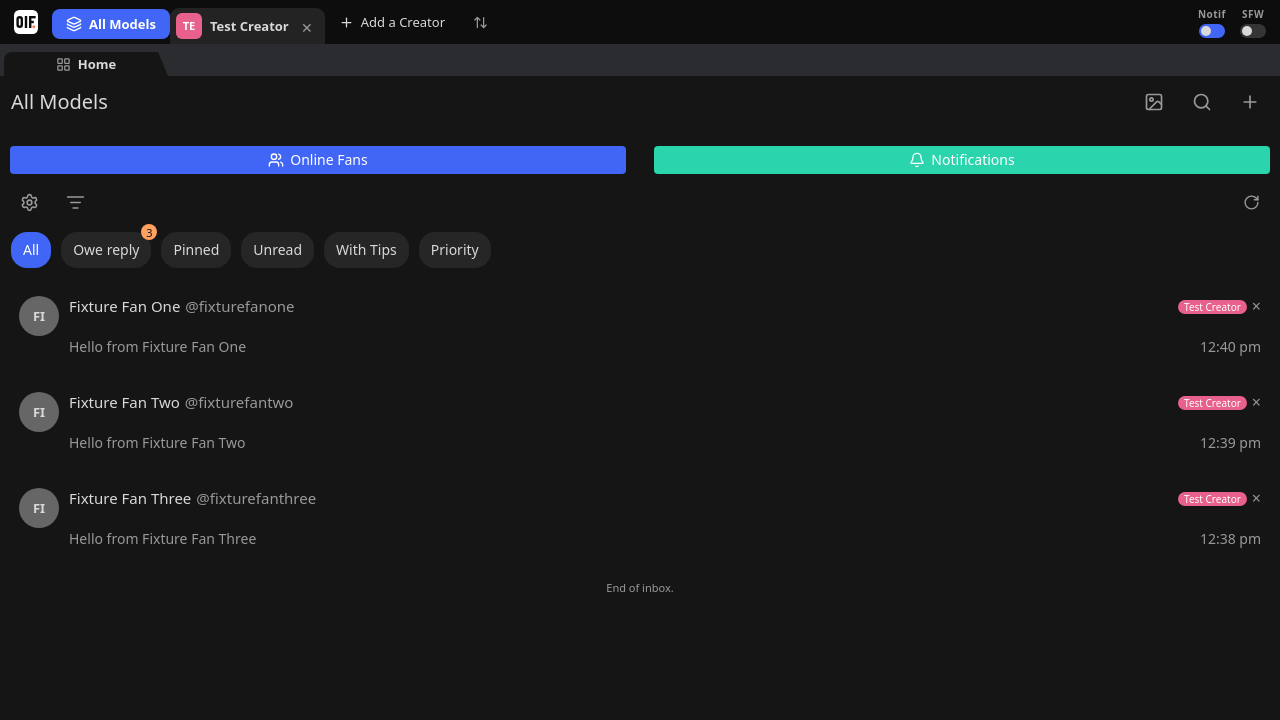
Test: the Messages Pro route › without window=1: still its own window, no app sidebar or top bar; lists the Fans, and opens a Fan's Thread
Expected: the text "Fixture Fan One" is shown, [69,296,180,317]
Expected: the text "Fixture Fan Two" is shown, [69,392,180,413]
Click the button "Fixture Fan One" at (39, 316), box [0,280,1279,376]
(page scrolled)
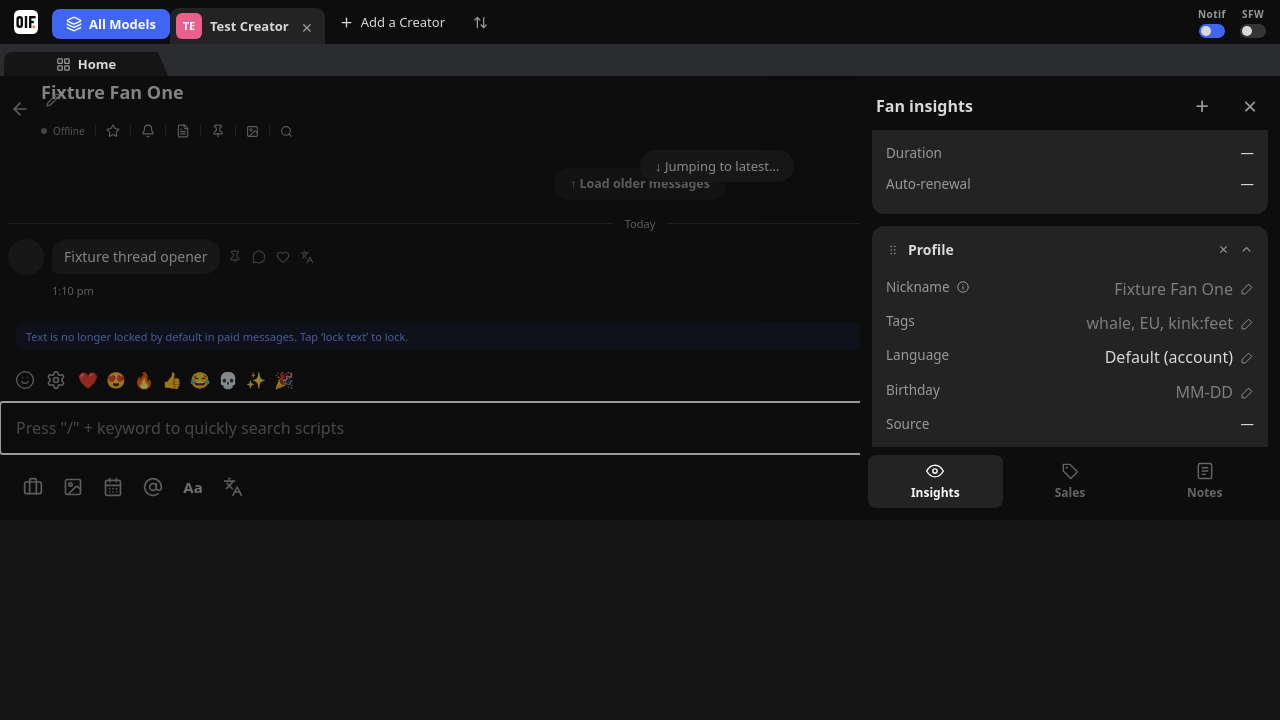
Result: the text "Fixture thread opener" is shown at [64,247,208,266]
Result: the field labelled "Nickname" is shown at [982,278,1233,300]
